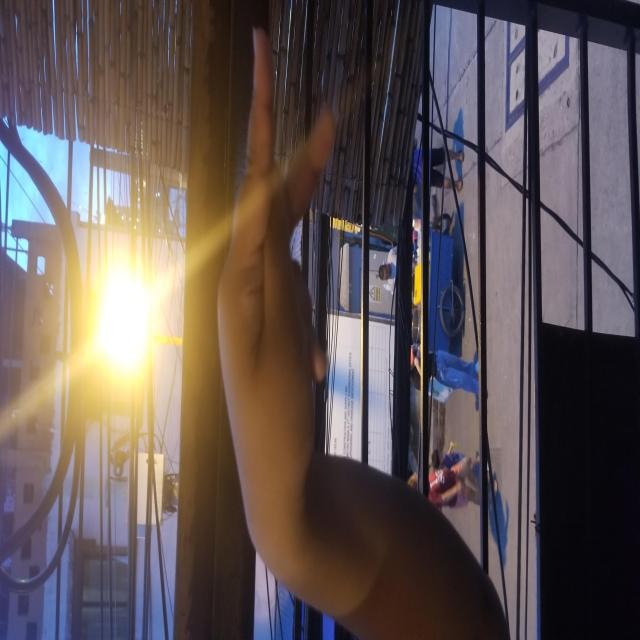P: (146, 23, 410, 605)
